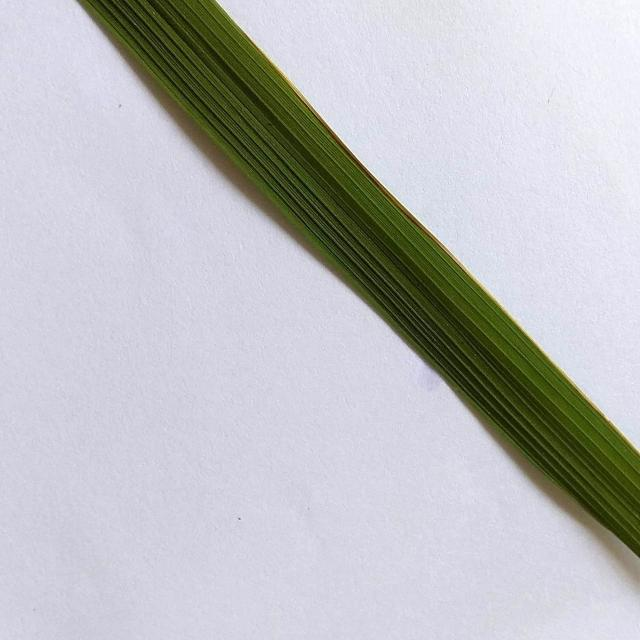Rice_Healthy: (84, 0, 640, 556)
